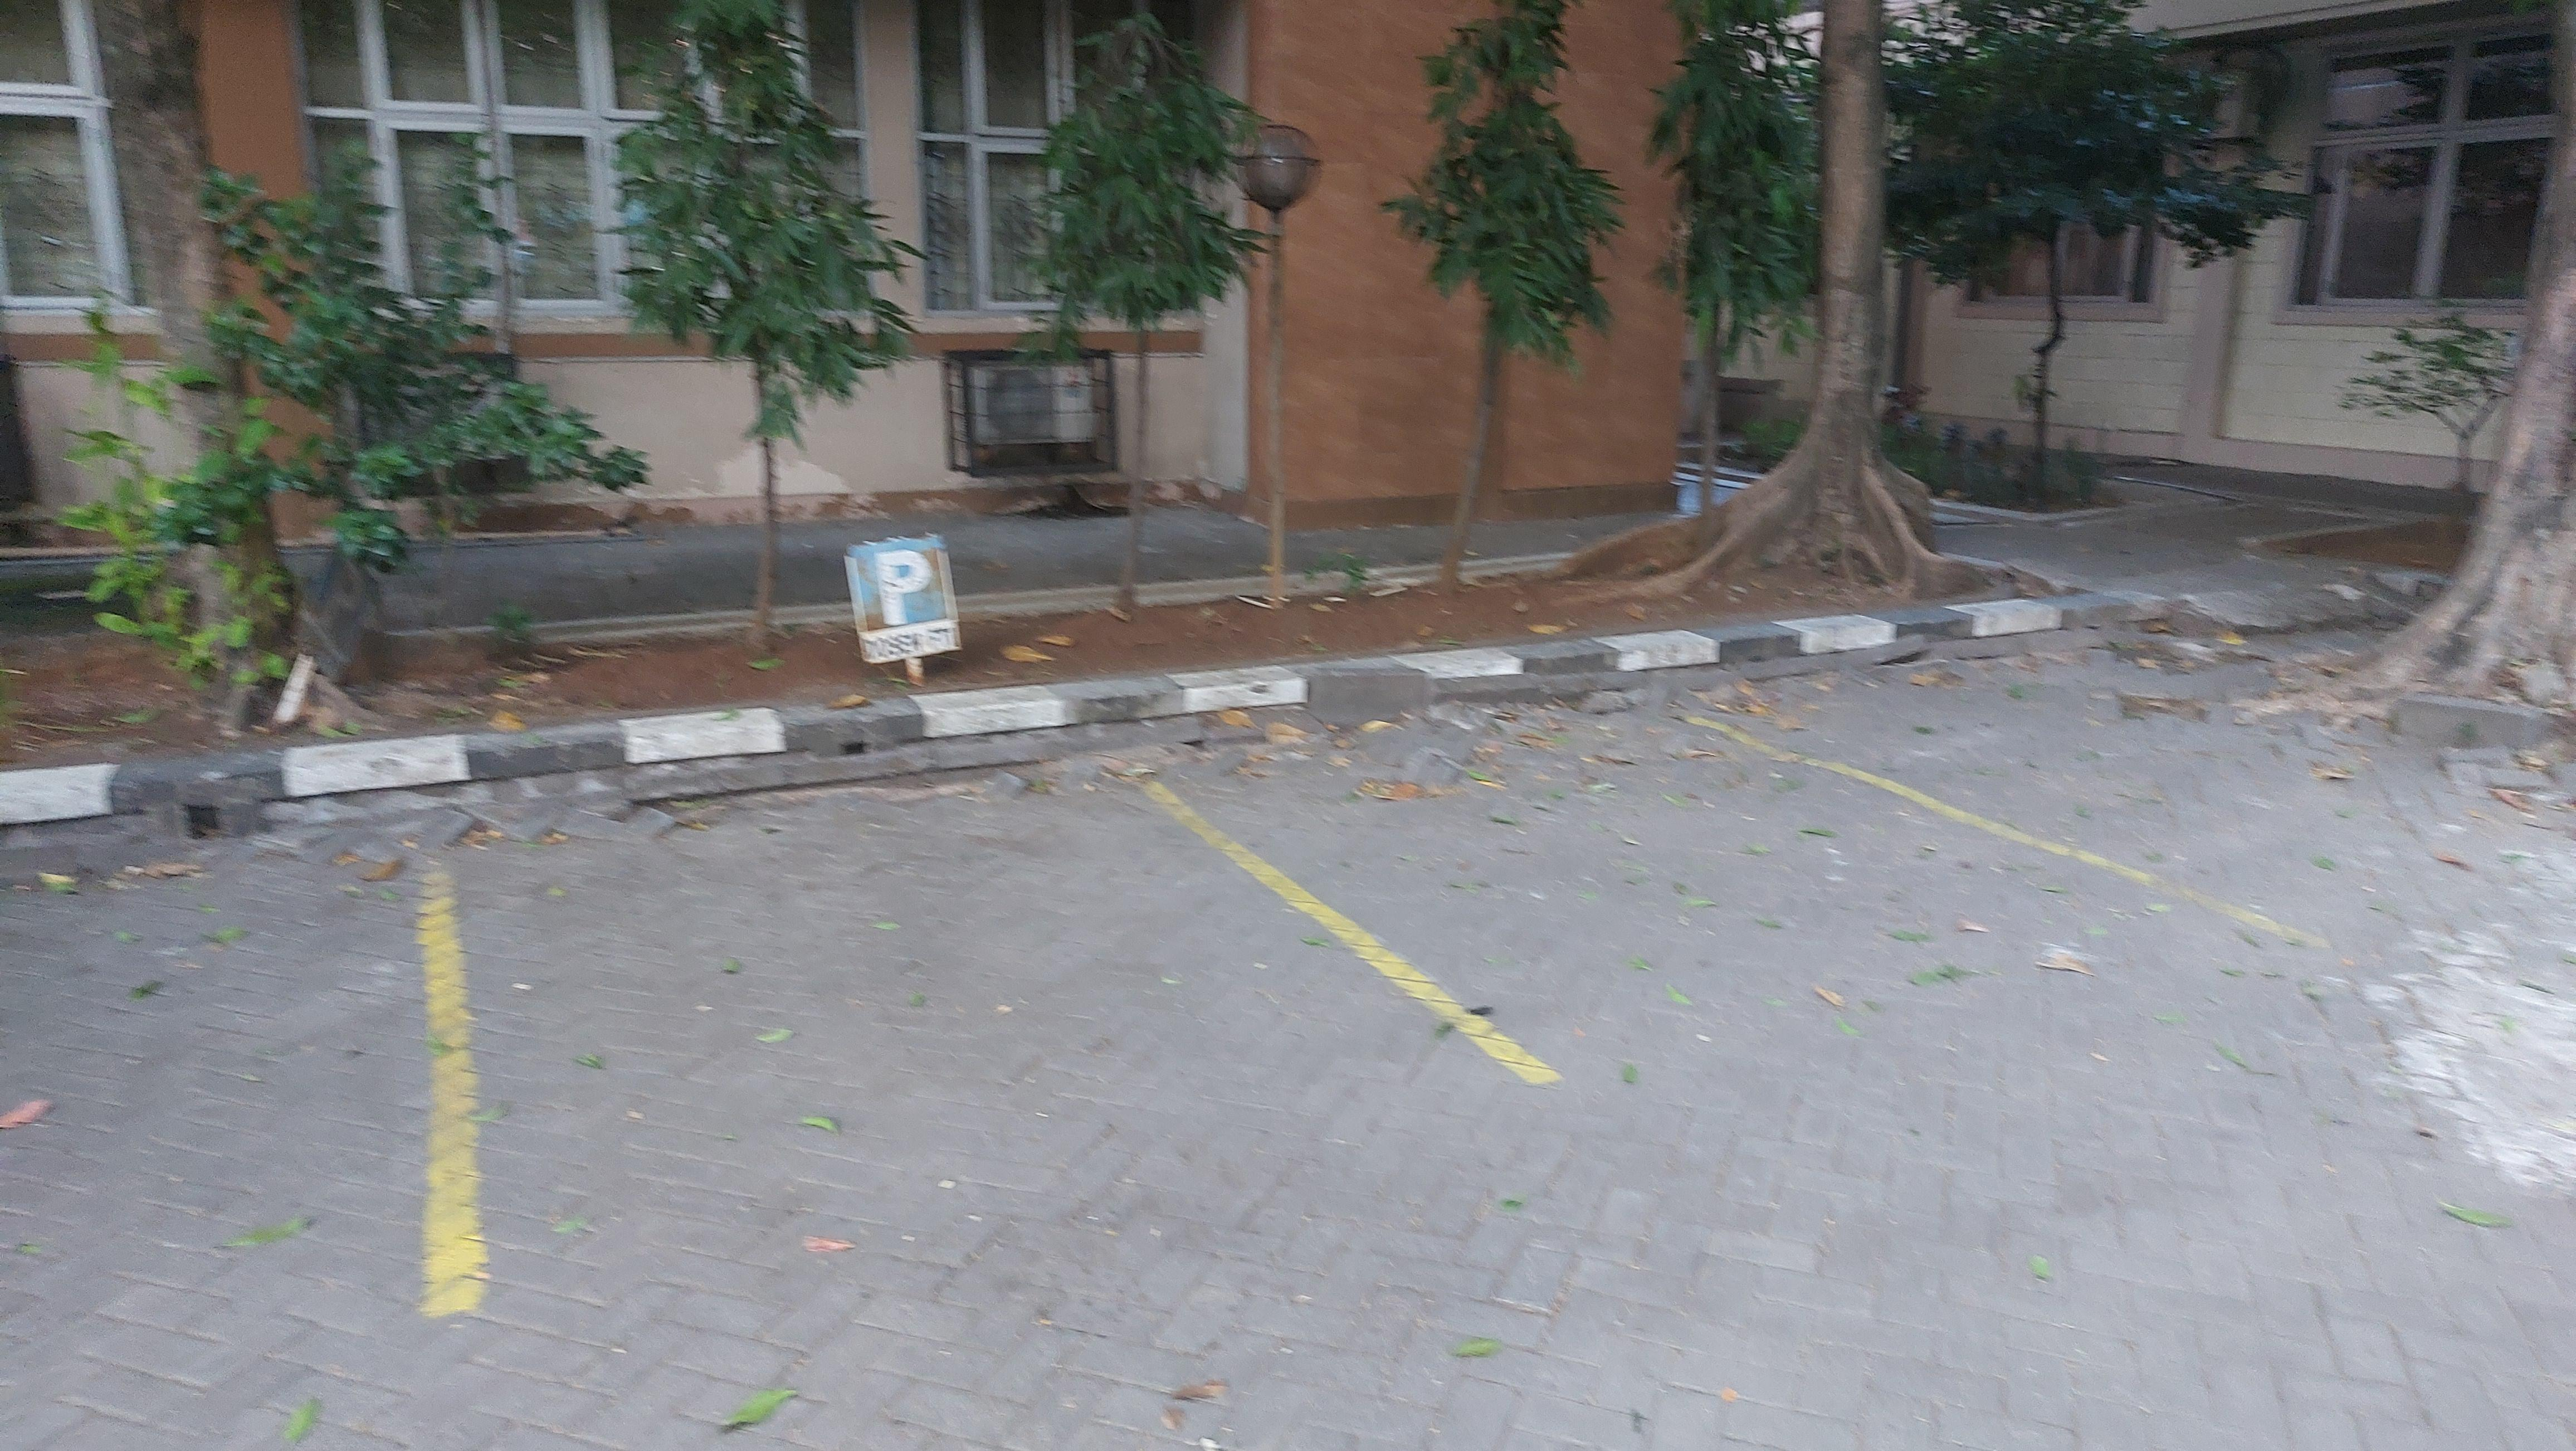empty: (426, 767, 1535, 1313), (1154, 714, 2323, 1076)
